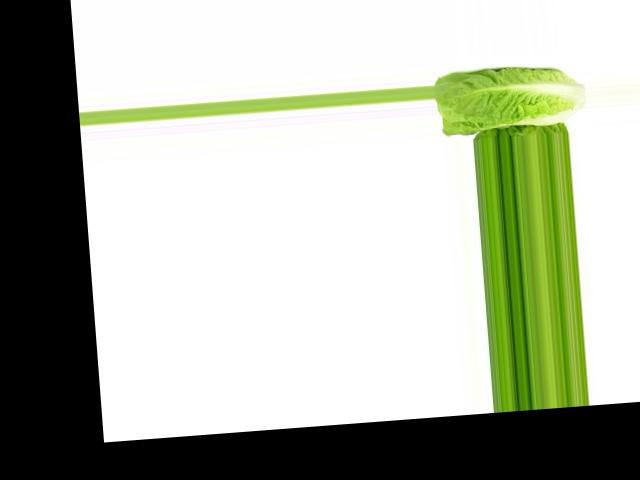lettuce: (431, 51, 587, 134)
